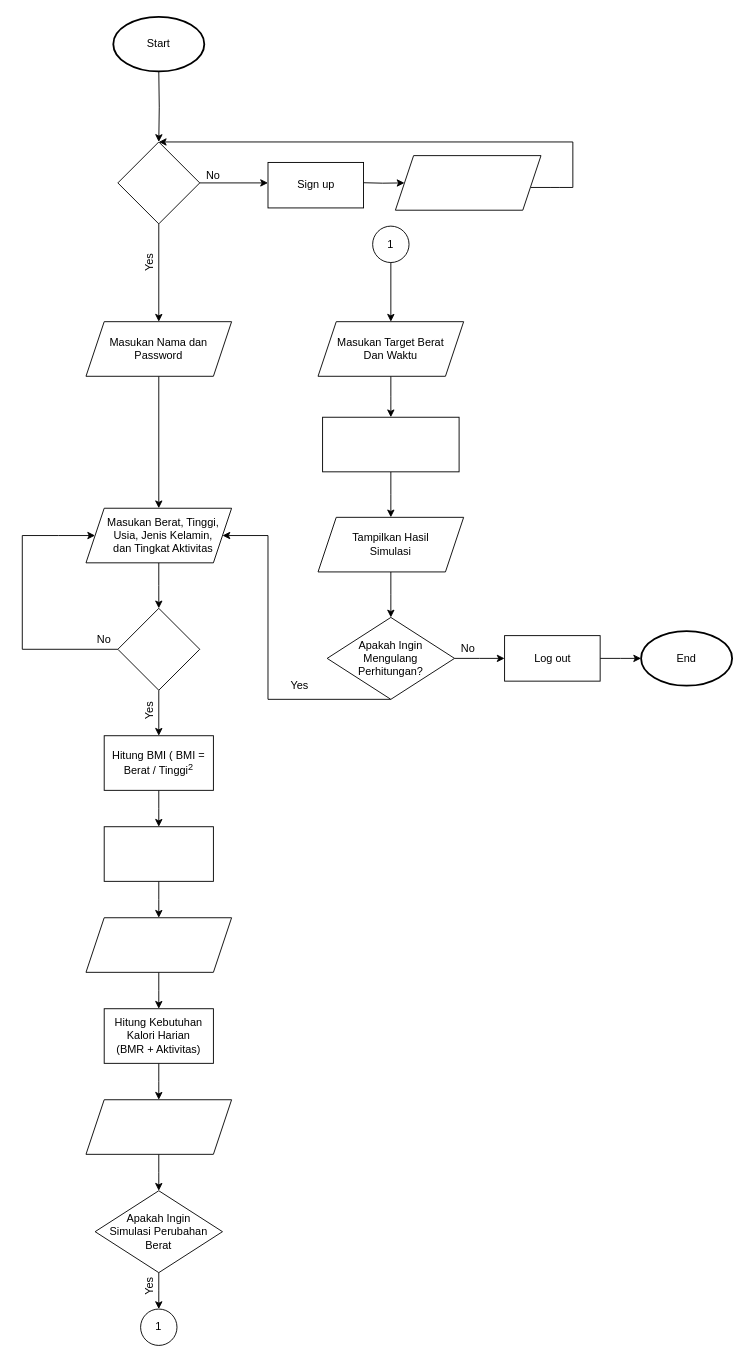
Some shapes in this 749 by 1361 pixel diagram are drawn without their labels. The centre of each missing label's shape, as x and y in pixels:
Apakah Input Valid: the point at 158,648
Daftarkan Nama dan Password: the point at 467,182
Sign in: the point at 158,182
Simulasi Perubahan Berat (Penurunan/Kenaikan Berat): the point at 390,444
Tampilkan Hasil BMI dan Kategori: the point at 158,944
Tampilkan Kebutuhan Kalori Harian: the point at 158,1126
Tentukan Kategori BMI: the point at 158,853
